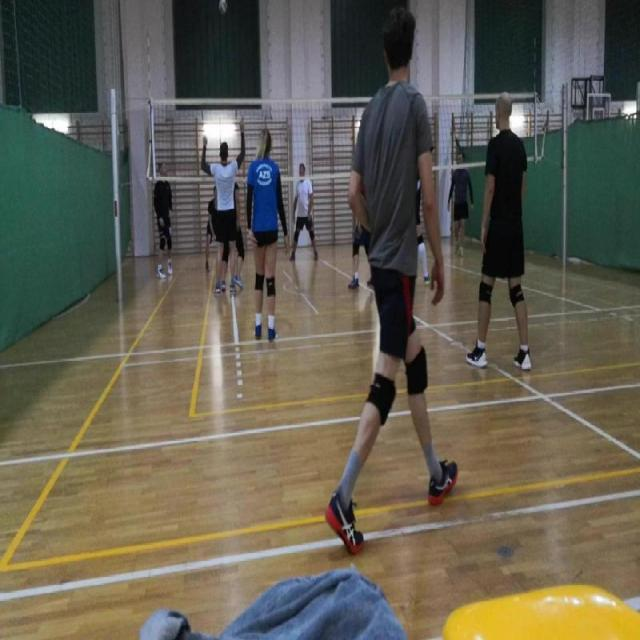volleyball: (217, 0, 228, 14)
